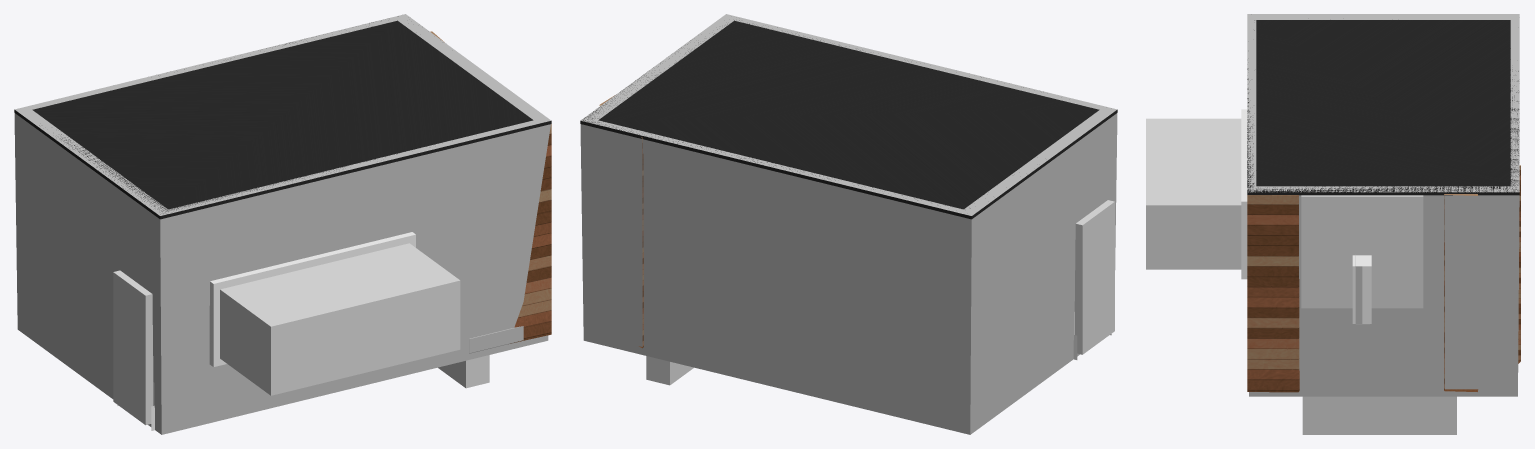
Rendered from Sala - cópia.fbx.
3 views of the same model, side by side, from view 1: azimuth 30°, elevation 25°; view 2: azimuth 150°, elevation 25°; view 3: azimuth 270°, elevation 25° (orthographic). The views are drawn at different scales.
Parts seen in each view (by area): view 1: Cube, teto, blooleam, Cube.003, Cylinder.002, CTRL_Hole.004, Cube.033, Cube.025; view 2: Cube, teto, Cube.003, Cube.033; view 3: teto, Cube, blooleam, Cube.002, Cylinder.002, Cube.033, CTRL_Hole.004, CTRL_Hole.002, WindowFrame, Cylinder.005.
Boxes of the visible parts, left/top/right/bottom form: Cube: left=14, top=14, right=550, bottom=434; teto: left=14, top=16, right=551, bottom=219; blooleam: left=220, top=243, right=460, bottom=395; Cube.003: left=113, top=270, right=153, bottom=425; Cylinder.002: left=510, top=124, right=551, bottom=343; CTRL_Hole.004: left=209, top=232, right=415, bottom=367; Cube.033: left=438, top=355, right=489, bottom=388; Cube.025: left=469, top=326, right=523, bottom=353; Cube: left=580, top=14, right=1117, bottom=434; teto: left=580, top=20, right=1117, bottom=219; Cube.003: left=1074, top=200, right=1114, bottom=354; Cube.033: left=646, top=356, right=693, bottom=385; teto: left=1247, top=20, right=1519, bottom=195; Cube: left=1247, top=14, right=1519, bottom=396; blooleam: left=1146, top=118, right=1241, bottom=269; Cube.002: left=1301, top=195, right=1423, bottom=308; Cylinder.002: left=1247, top=195, right=1299, bottom=392; Cube.033: left=1302, top=396, right=1456, bottom=434; CTRL_Hole.004: left=1241, top=109, right=1247, bottom=279; CTRL_Hole.002: left=1352, top=255, right=1371, bottom=323; WindowFrame: left=1355, top=255, right=1362, bottom=324; Cylinder.005: left=1518, top=165, right=1520, bottom=363.
Size of the model in its own units: 720 by 447 by 590.
